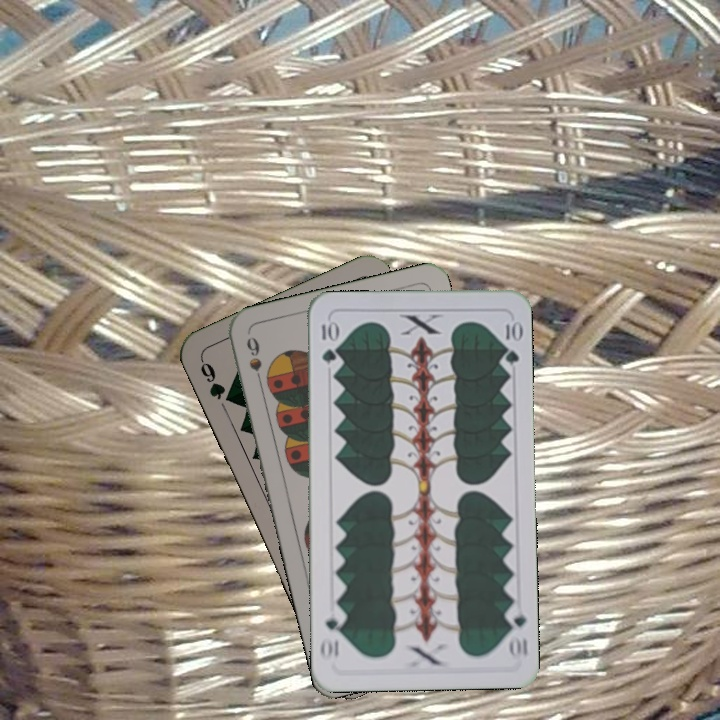G10: (502, 602, 530, 662), (317, 316, 338, 366)
G9: (196, 355, 237, 406)
S9: (242, 332, 266, 390)
